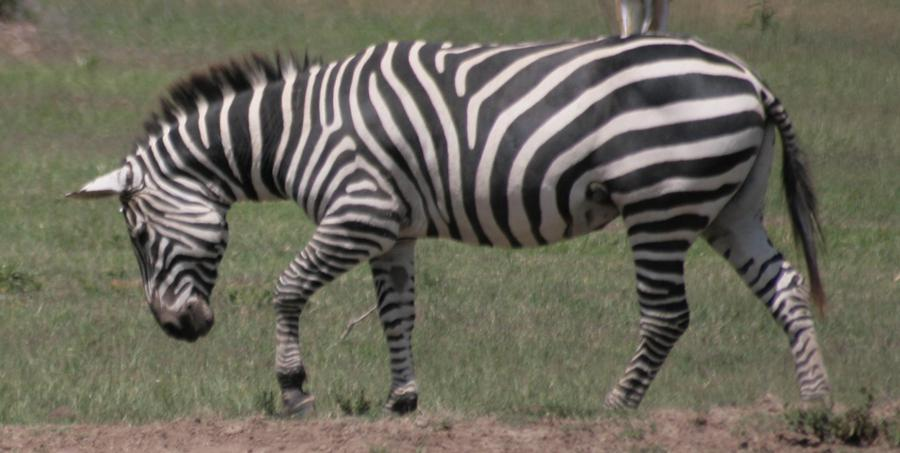zebra_plains: (291, 21, 738, 266)
